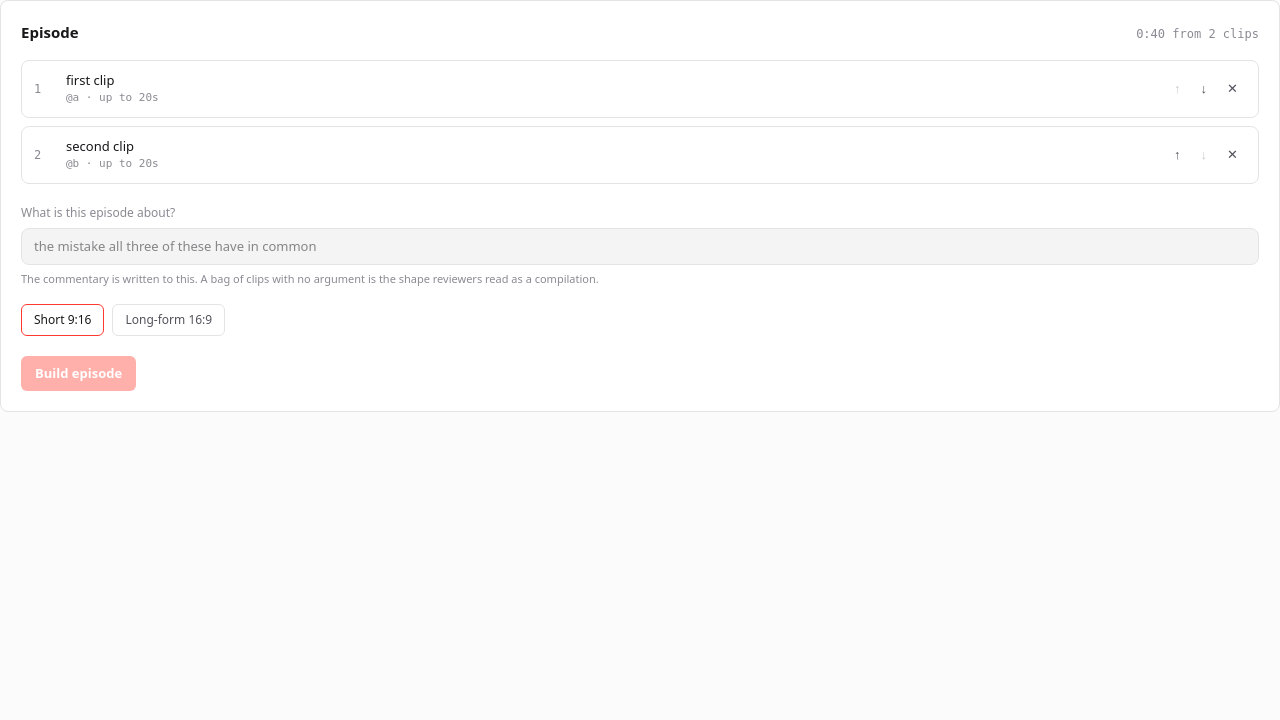
Test: building › surfaces a refusal rather than swallowing it
This screenshot has width=1280, height=720.
Type "the mistake these share" into the field with placeholder "the mistake all three of these have in common" at (640, 246), box [21,228,1259,265]
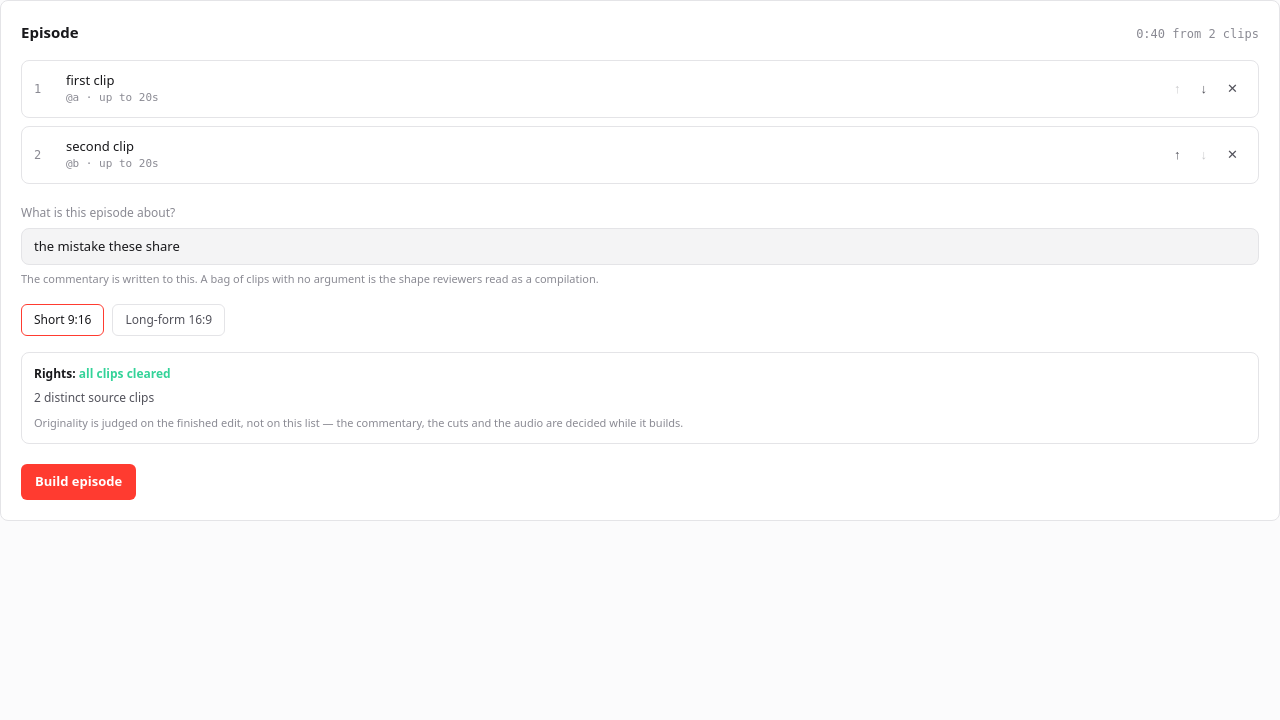
Click the button "Build episode" at (79, 482), box [21,464,136,500]
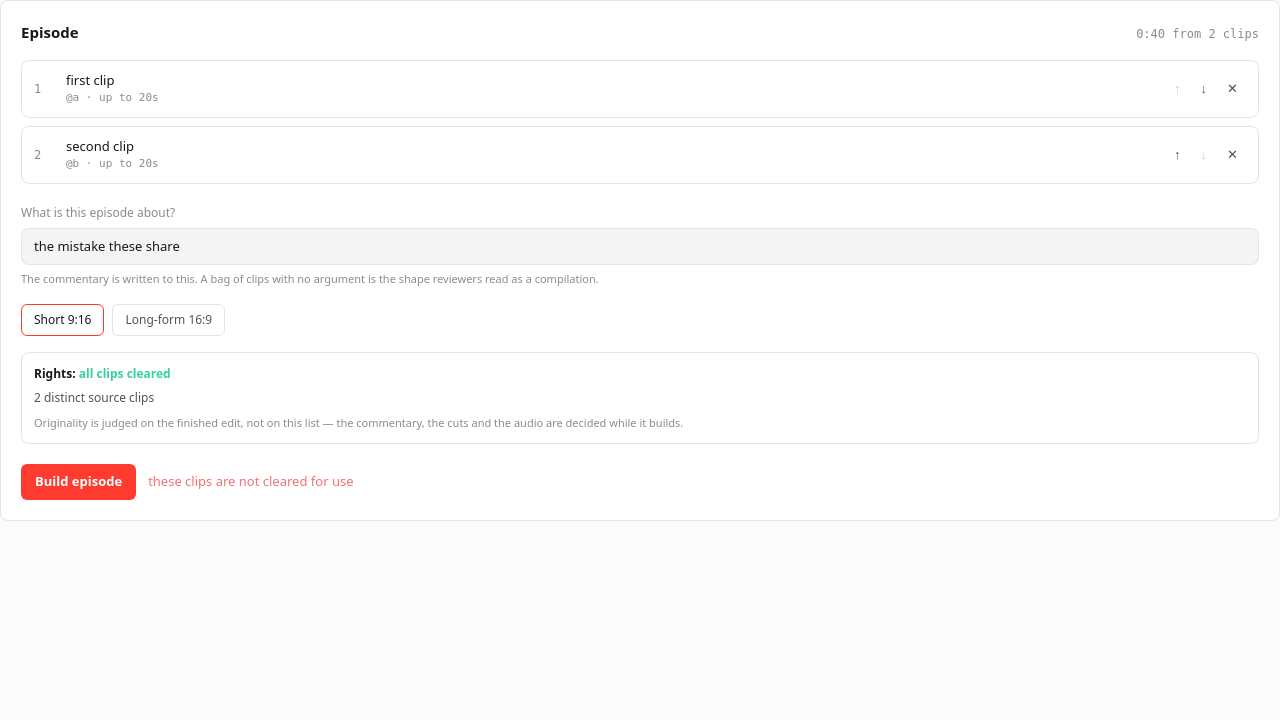
Expected: the text "these clips are not cleared for use" is shown, [148,472,354,492]
